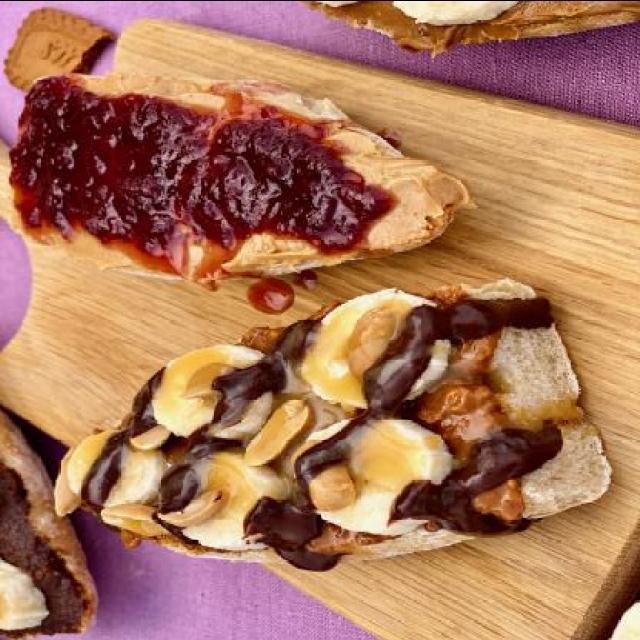Spread: (47, 126, 336, 240)
